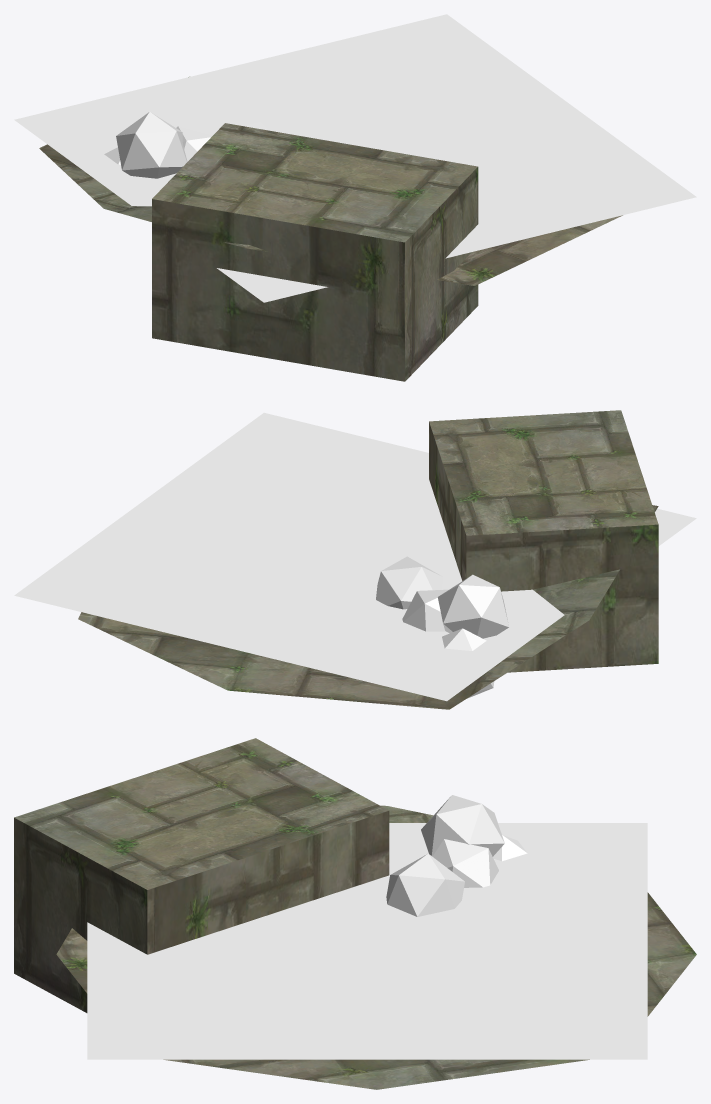
The picture shows the model from 3 angles, top to bottom: view 1: azimuth 30°, elevation 25°; view 2: azimuth 150°, elevation 25°; view 3: azimuth 270°, elevation 25°; orthographic projection. The views are drawn at different scales.
Parts seen in each view (by area): view 1: Cube, Plane.001, Plane, Icosphere.003, Icosphere.001; view 2: Plane.001, Cube, Plane, Icosphere.003, Icosphere.002, Icosphere.001, Icosphere; view 3: Plane.001, Cube, Plane, Icosphere.002, Icosphere.003, Icosphere.001.
Boxes of the visible parts, left/top/right/bottom form: Cube: left=152, top=123, right=478, bottom=381; Plane.001: left=14, top=14, right=696, bottom=302; Plane: left=39, top=76, right=622, bottom=285; Icosphere.003: left=116, top=112, right=187, bottom=178; Icosphere.001: left=176, top=126, right=212, bottom=161; Plane.001: left=14, top=412, right=696, bottom=701; Cube: left=429, top=410, right=658, bottom=672; Plane: left=78, top=505, right=658, bottom=709; Icosphere.003: left=437, top=574, right=508, bottom=638; Icosphere.002: left=376, top=556, right=443, bottom=609; Icosphere.001: left=402, top=589, right=448, bottom=631; Icosphere: left=442, top=628, right=494, bottom=698; Plane.001: left=87, top=823, right=647, bottom=1059; Cube: left=14, top=738, right=389, bottom=1012; Plane: left=56, top=805, right=696, bottom=1089; Icosphere.002: left=386, top=853, right=464, bottom=916; Icosphere.003: left=421, top=795, right=504, bottom=856; Icosphere.001: left=432, top=839, right=498, bottom=887.
Bounding box in the file's own units: 17.33 × 4.79 × 19.01.
3 materials, 1 textured.
